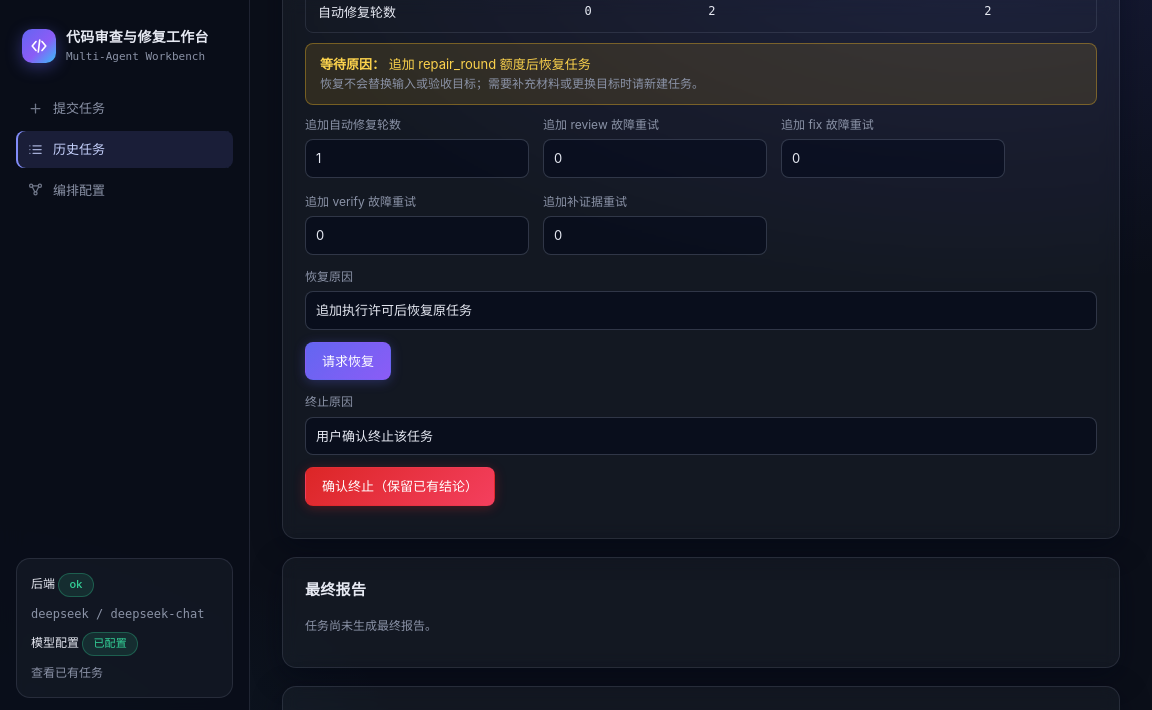
Test case: workbench › shows a waiting task and posts a resume with the current revision
(page scrolled)
What coordinates should you click on to do the following:
click the button "请求恢复"
I would click on:
 (348, 361)
Its box is top-left (305, 342), bottom-right (391, 380).
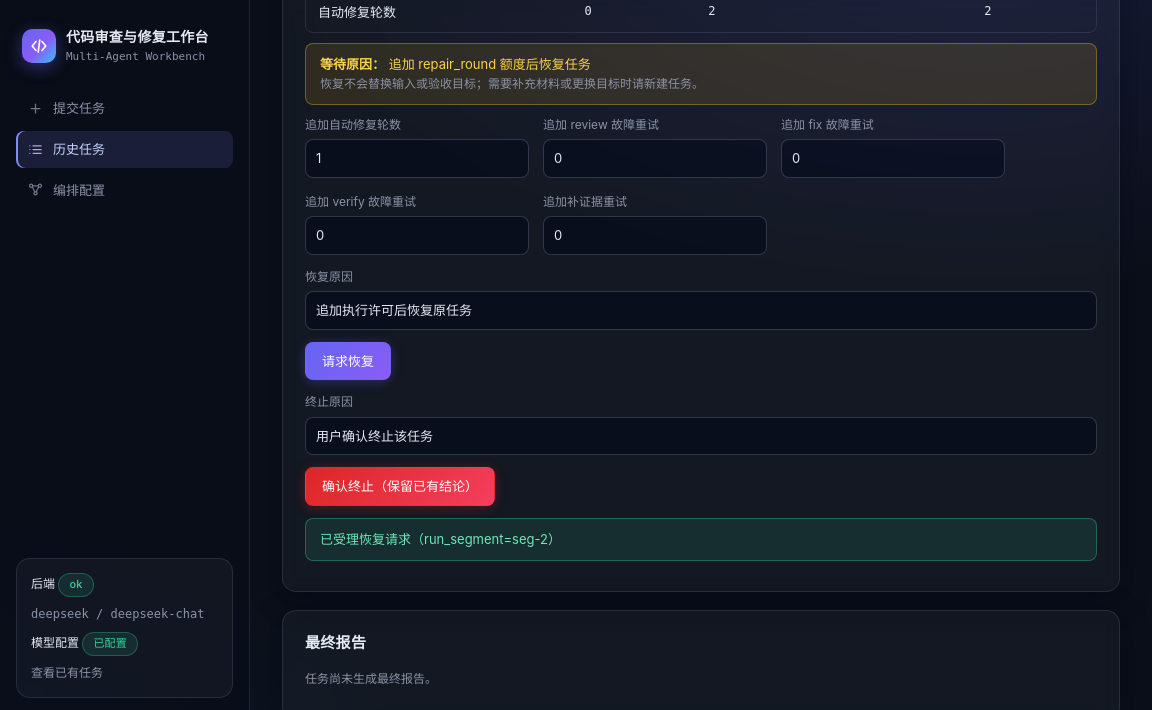
Expected: the text "已受理恢复请求（run_segment=seg-2）" is shown, top-left (305, 518), bottom-right (1097, 561)
